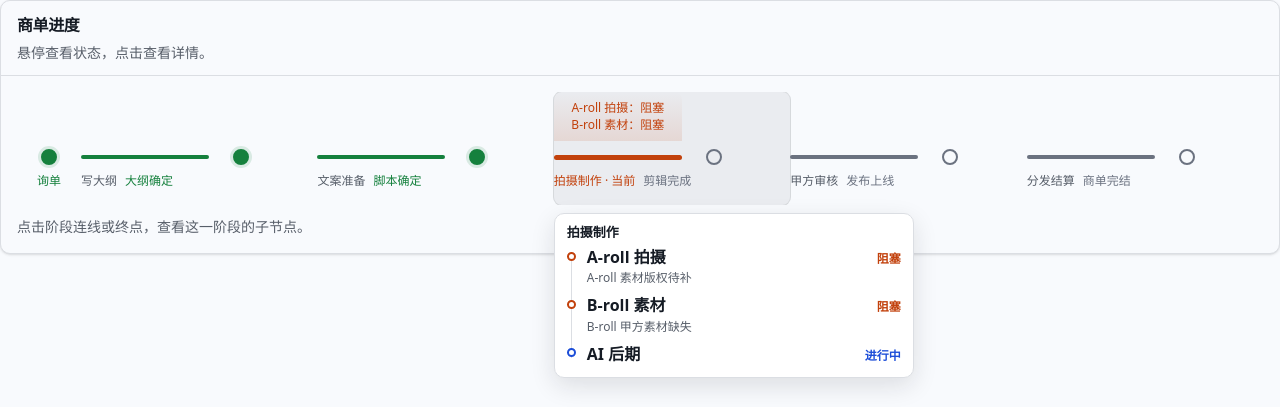
ProgressTimeline › shows each blocked node status once, and keeps the reason in the tooltip and detail
Expected: the number of elements with test id "progress-stage-line-label" is 1, top-left (571, 99), bottom-right (664, 132)
Expected: the element with test id "progress-stage" does not show "A-roll 素材版权待补"
Click the button with test id "progress-stage" that starts with "A-roll 拍摄：阻塞 B-roll 素材：阻塞".
click(672, 148)  # box top-left (554, 92), bottom-right (790, 205)
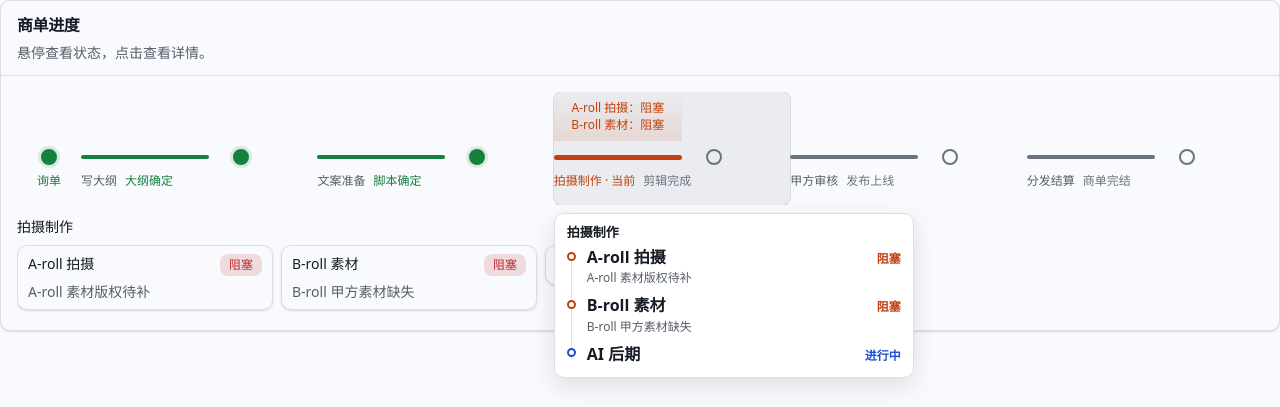
Expected: the element with test id "progress-stage-node" shows "A-roll 拍摄", top-left (28, 254), bottom-right (94, 273)
Expected: the element with test id "progress-stage-node" shows "阻塞", top-left (229, 256), bottom-right (253, 273)
Expected: the 2nd text with test id "progress-blocker" reads "A-roll 素材版权待补", top-left (28, 282), bottom-right (150, 301)
